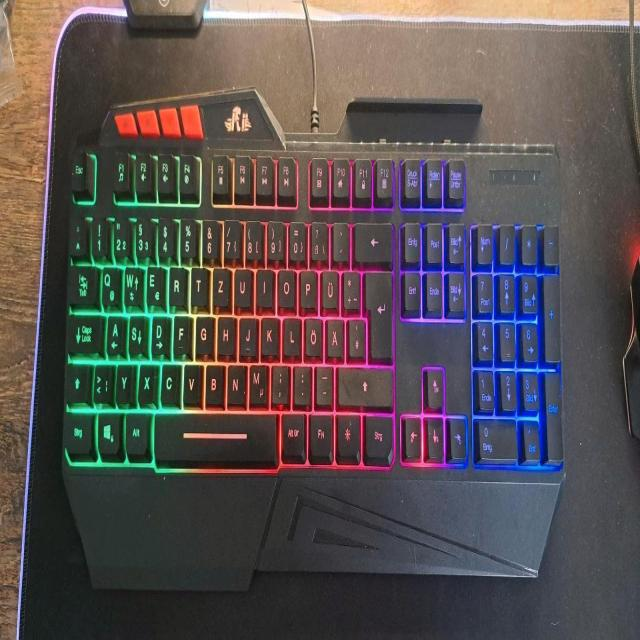0: (287, 217, 305, 259)
1: (90, 213, 108, 256)
2: (112, 212, 129, 258)
3: (134, 212, 151, 258)
4: (156, 213, 174, 256)
5: (178, 213, 196, 258)
6: (201, 214, 219, 257)
7: (222, 214, 239, 258)
8: (243, 216, 261, 259)
9: (265, 215, 283, 258)
a: (105, 310, 125, 354)
accent: (331, 218, 348, 259)
ae: (325, 312, 343, 356)
alt-left: (124, 408, 148, 456)
altgr-right: (280, 408, 305, 457)
b: (204, 358, 223, 402)
c: (159, 358, 179, 404)
caret: (67, 213, 86, 254)
comma: (270, 359, 288, 401)
d: (150, 311, 169, 355)
del: (353, 217, 392, 261)
e: (145, 262, 164, 305)
enter: (363, 265, 392, 359)
f: (172, 310, 189, 353)
g: (193, 310, 212, 352)
h: (216, 311, 234, 353)
hash: (346, 313, 364, 355)
i: (255, 264, 273, 304)
j: (238, 312, 256, 355)
k: (259, 311, 278, 354)
keyboard: (59, 121, 570, 499)
l: (281, 312, 299, 354)
less: (92, 359, 113, 402)
m: (247, 358, 266, 404)
minus: (314, 360, 332, 402)
n: (225, 359, 245, 403)
o: (276, 265, 295, 306)
oe: (303, 313, 321, 354)
p: (298, 265, 316, 306)
plus: (341, 266, 359, 307)
point: (292, 360, 310, 402)
q: (100, 263, 119, 306)
r: (167, 262, 186, 304)
s: (127, 310, 147, 355)
shift-left: (63, 361, 88, 402)
shift-lock: (65, 310, 103, 355)
shift-right: (336, 361, 392, 404)
space: (152, 405, 276, 463)
ss: (309, 217, 327, 259)
strg-left: (62, 409, 91, 456)
strg-right: (362, 409, 392, 459)
t: (189, 262, 207, 303)
tab: (66, 262, 97, 304)
u: (233, 263, 250, 304)
ue: (320, 266, 337, 307)
v: (182, 358, 201, 402)
w: (123, 262, 143, 307)
x: (137, 359, 157, 403)
y: (114, 359, 132, 403)
z: (211, 262, 229, 304)
